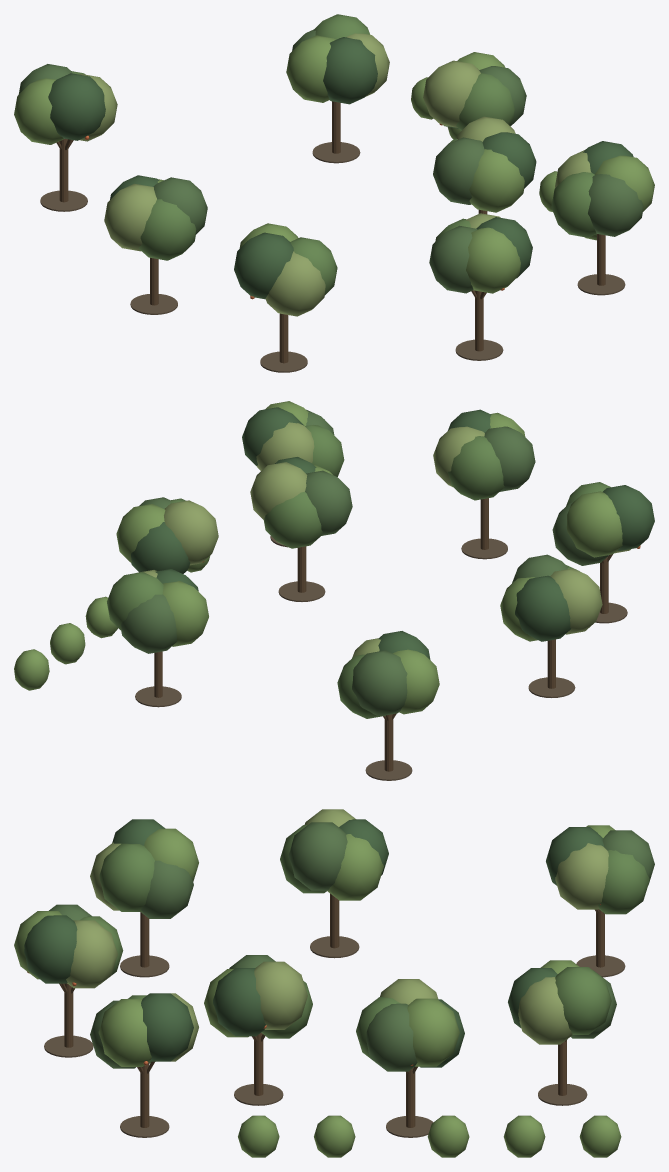
File: orchard_trees.glb
3 renders of one model, top to bottom at view 1: azimuth 30°, elevation 25°; view 2: azimuth 150°, elevation 25°; view 3: azimuth 270°, elevation 25°, orthographic. The views are drawn at different scales.
Parts seen in each view (by area): view 1: Organická koruna.025, Organická koruna, Organická koruna.035, Organická koruna.017, Organická koruna.020, Organická koruna.007, Organická koruna.015, Organická koruna.010, Organická koruna.030, Organická koruna.032, Organická koruna.012, Organická koruna.002 (+26 smaller); view 2: Organická koruna.029, Organická koruna.019, Organická koruna.034, Organická koruna.039, Organická koruna.004, Organická koruna.007, Organická koruna.014, Organická koruna.012, Organická koruna.037, Organická koruna.011, Organická koruna.032, Organická koruna.017 (+23 smaller); view 3: Organická koruna.033, Organická koruna.018, Organická koruna.038, Organická koruna.001, Organická koruna.011, Organická koruna.021, Organická koruna.006, Organická koruna.013, Organická koruna.023, Organická koruna.028, Organická koruna.008, Organická koruna.003 (+38 smaller).
Boxes of the visible parts, x1,y1,x2,y2 form: Organická koruna.025: (48,73,105,140); Organická koruna: (323,37,377,104); Organická koruna.035: (466,227,520,293); Organická koruna.017: (234,232,293,299); Organická koruna.020: (588,174,643,236); Organická koruna.007: (423,60,480,127); Organická koruna.015: (265,251,325,316); Organická koruna.010: (469,149,524,212); Organická koruna.030: (139,199,196,260); Organická koruna.032: (104,183,156,251); Organická koruna.012: (433,137,484,204); Organická koruna.002: (286,35,335,102); Organická koruna.029: (352,650,407,716); Organická koruna.019: (566,491,622,557); Organická koruna.034: (515,575,570,641); Organická koruna.039: (447,436,504,500); Organická koruna.004: (121,594,177,653); Organická koruna.007: (164,500,218,565); Organická koruna.014: (264,491,322,548); Organická koruna.012: (305,470,352,535); Organická koruna.037: (484,426,535,491); Organická koruna.011: (250,462,307,519); Organická koruna.032: (550,568,602,634); Organická koruna.017: (603,485,654,550); Organická koruna.033: (288,822,347,890); Organická koruna.018: (99,843,154,911); Organická koruna.038: (24,915,77,983); Organická koruna.001: (555,967,611,1034); Organická koruna.011: (254,961,307,1029); Organická koruna.021: (141,993,193,1061); Organická koruna.006: (407,998,459,1066); Organická koruna.013: (213,968,265,1036); Organická koruna.023: (98,999,151,1066); Organická koruna.028: (555,843,608,909); Organická koruna.008: (366,1003,417,1071); Organická koruna.003: (518,977,572,1044).
Bounding box in the file's own units: 14.62 × 4.19 × 16.88.
